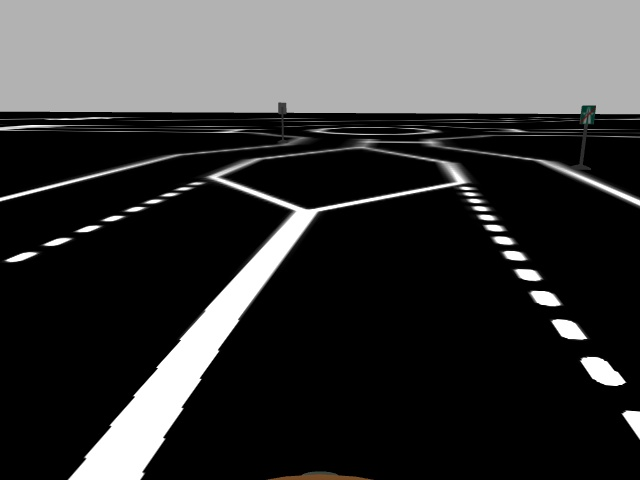leave_highway: (578, 104, 597, 125)
